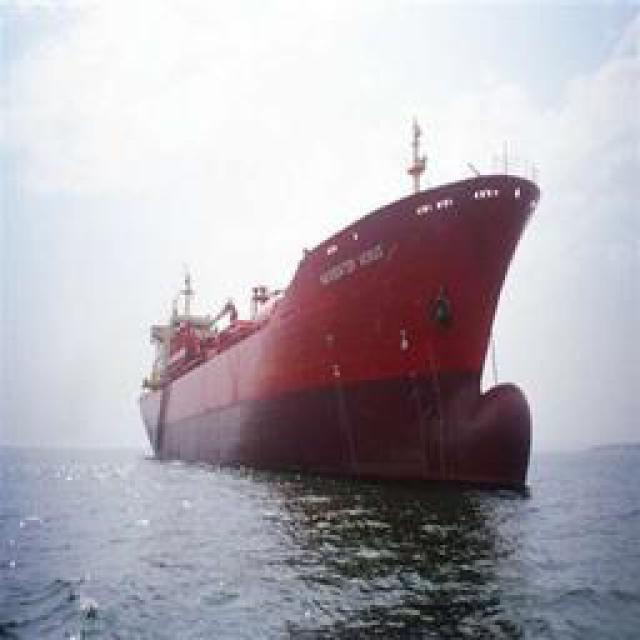Ship: (145, 175, 545, 480)
